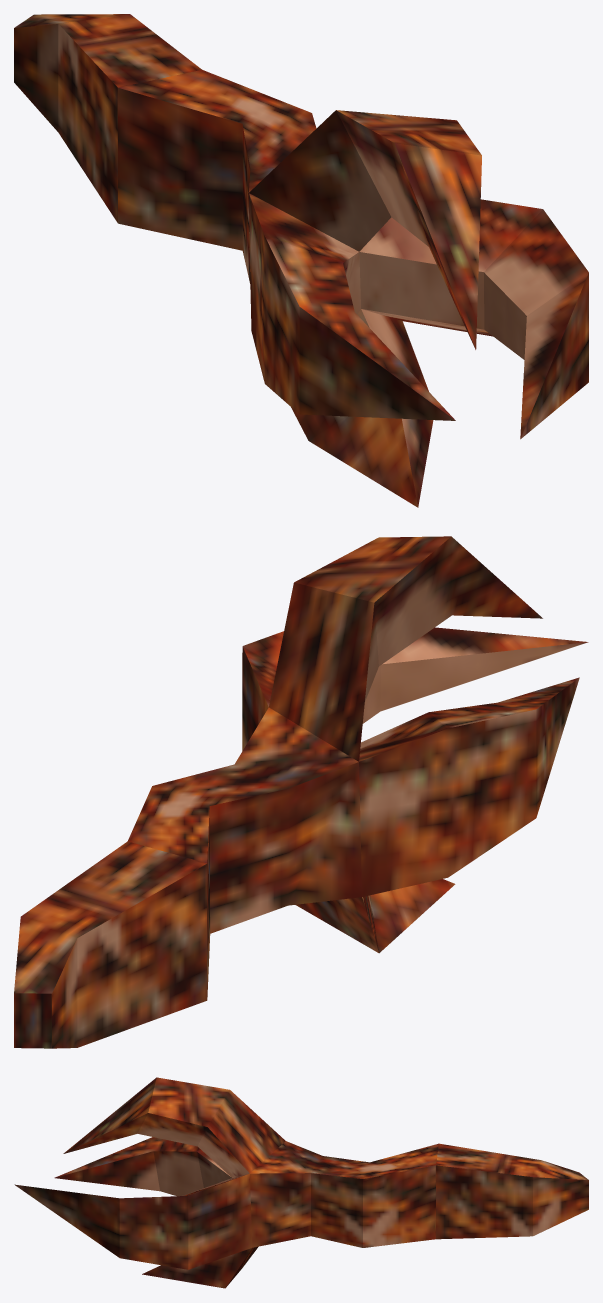
Rendered from entarm.obj.
3 renders of one model, top to bottom at view 1: azimuth 30°, elevation 25°; view 2: azimuth 150°, elevation 25°; view 3: azimuth 270°, elevation 25°, orthographic. The views are drawn at different scales.
Parts seen in each view (by area): view 1: Base; view 2: Base; view 3: Base.
Boxes of the visible parts, x1,y1,x2,y2 form: Base: (14,14,588,507); Base: (14,536,588,1048); Base: (14,1077,588,1288).
Bounding box in the file's own units: 0.3725 × 0.4752 × 1.27.
